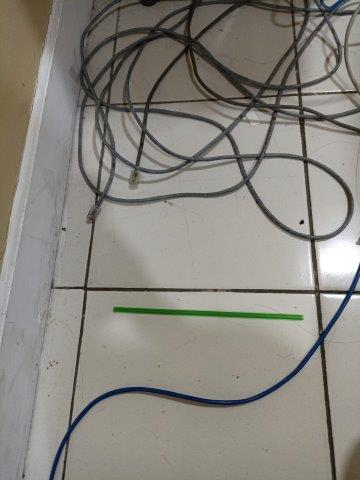sedotan: (113, 306, 304, 320)
